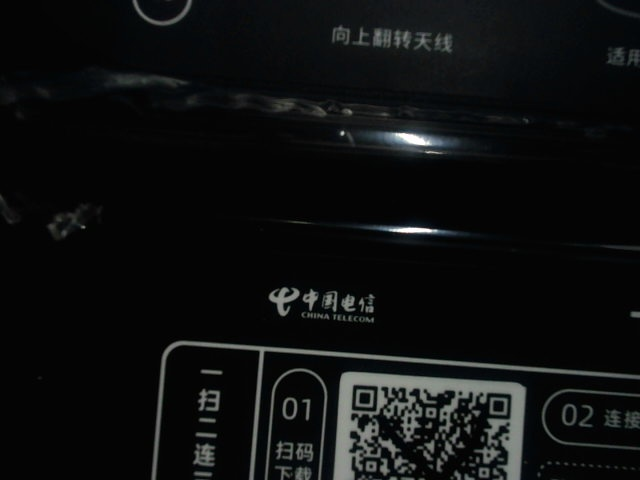AB_ChinaTelecom: (263, 274, 384, 326)
